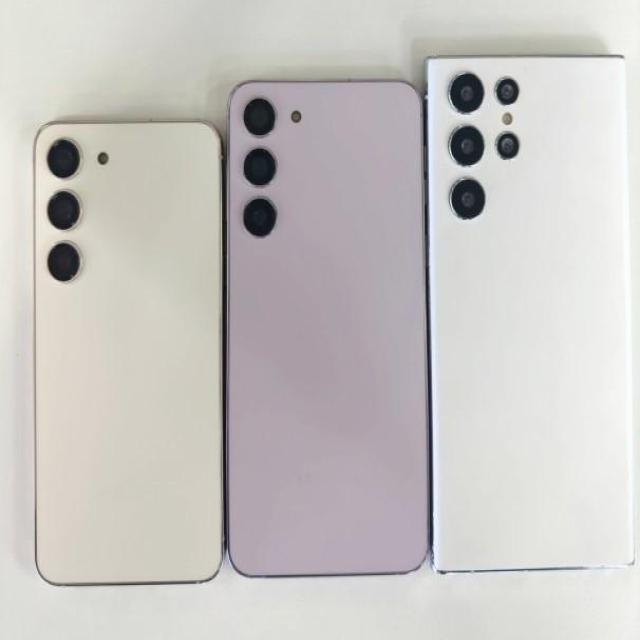mobile-phone: (426, 52, 640, 581), (227, 76, 428, 580), (32, 118, 225, 588)
